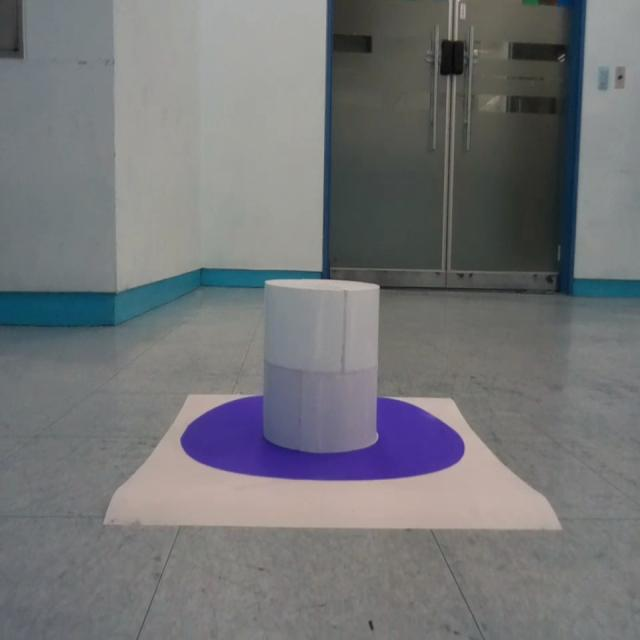cylinder: (262, 278, 381, 454)
